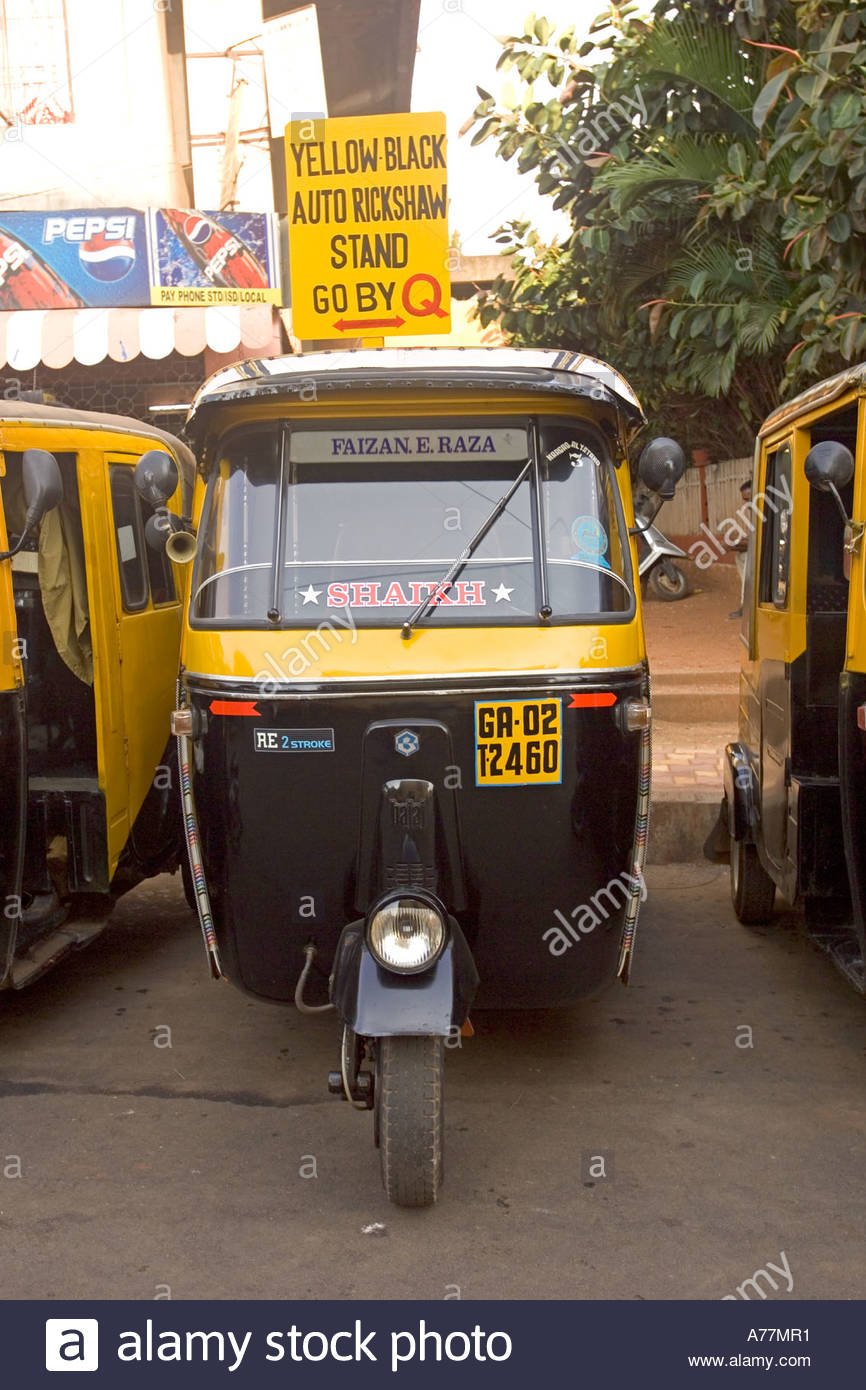doublelinenumberplate: (469, 694, 567, 790)
